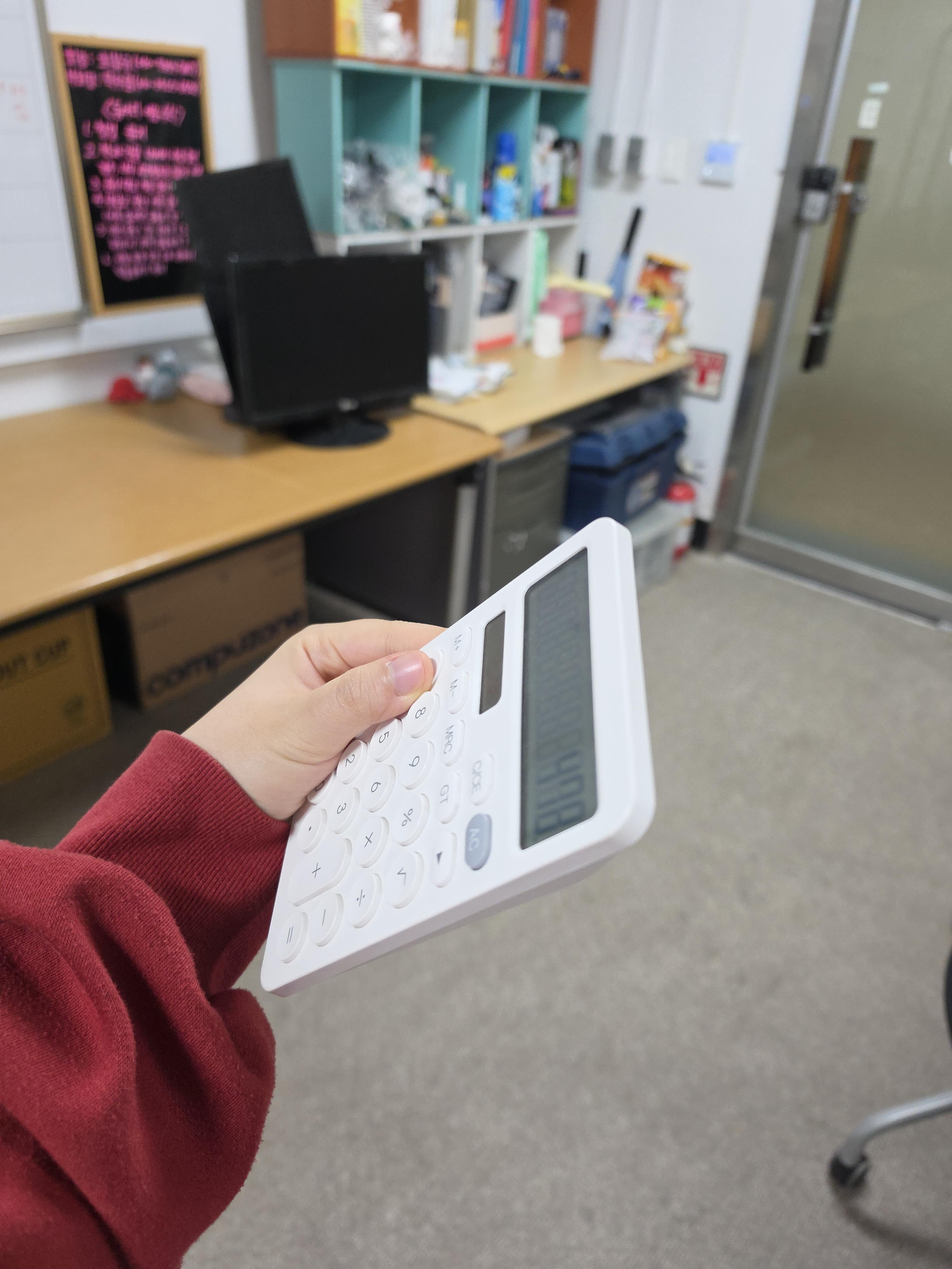calculator: (260, 517, 656, 996)
